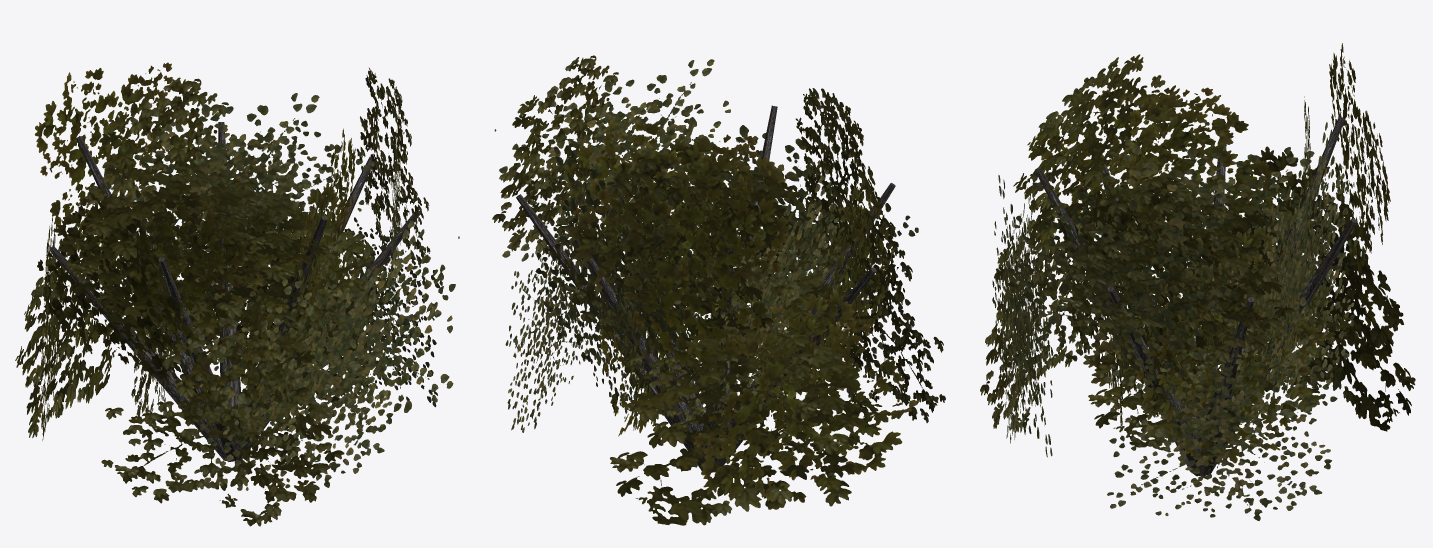
Rendered from bush_green_512_material_test.glb.
The picture shows the model from 3 angles, left to right: view 1: azimuth 30°, elevation 25°; view 2: azimuth 150°, elevation 25°; view 3: azimuth 270°, elevation 25°; orthographic projection. The views are drawn at different scales.
Parts seen in each view (by area): view 1: foliage_cards, stem_3, stem_4, stem_5, stem_2, stem_1, stem_6, stem_0; view 2: foliage_cards, stem_1, stem_0, stem_3, stem_4, stem_5, stem_2; view 3: foliage_cards, stem_1, stem_0, stem_6, stem_2, stem_5.
Part boxes in pixels (x1=…): foliage_cards: x1=15, y1=62, x2=459, y2=526; stem_3: x1=49, y1=246, x2=230, y2=461; stem_4: x1=158, y1=257, x2=238, y2=461; stem_5: x1=231, y1=216, x2=327, y2=460; stem_2: x1=76, y1=136, x2=204, y2=403; stem_1: x1=218, y1=122, x2=240, y2=407; stem_6: x1=240, y1=211, x2=420, y2=458; stem_0: x1=272, y1=156, x2=371, y2=380; foliage_cards: x1=492, y1=55, x2=945, y2=525; stem_1: x1=572, y1=231, x2=702, y2=470; stem_0: x1=516, y1=194, x2=701, y2=470; stem_3: x1=712, y1=267, x2=876, y2=472; stem_4: x1=724, y1=183, x2=895, y2=428; stem_5: x1=726, y1=105, x2=777, y2=395; stem_2: x1=702, y1=240, x2=734, y2=472; foliage_cards: x1=980, y1=43, x2=1415, y2=520; stem_1: x1=1210, y1=218, x2=1356, y2=473; stem_0: x1=1193, y1=297, x2=1254, y2=475; stem_6: x1=1107, y1=286, x2=1206, y2=476; stem_2: x1=1230, y1=116, x2=1344, y2=399; stem_5: x1=1035, y1=168, x2=1187, y2=466.
Bounding box in the file's own units: 2.62 × 2.34 × 2.43.
2 materials, 2 textured.
